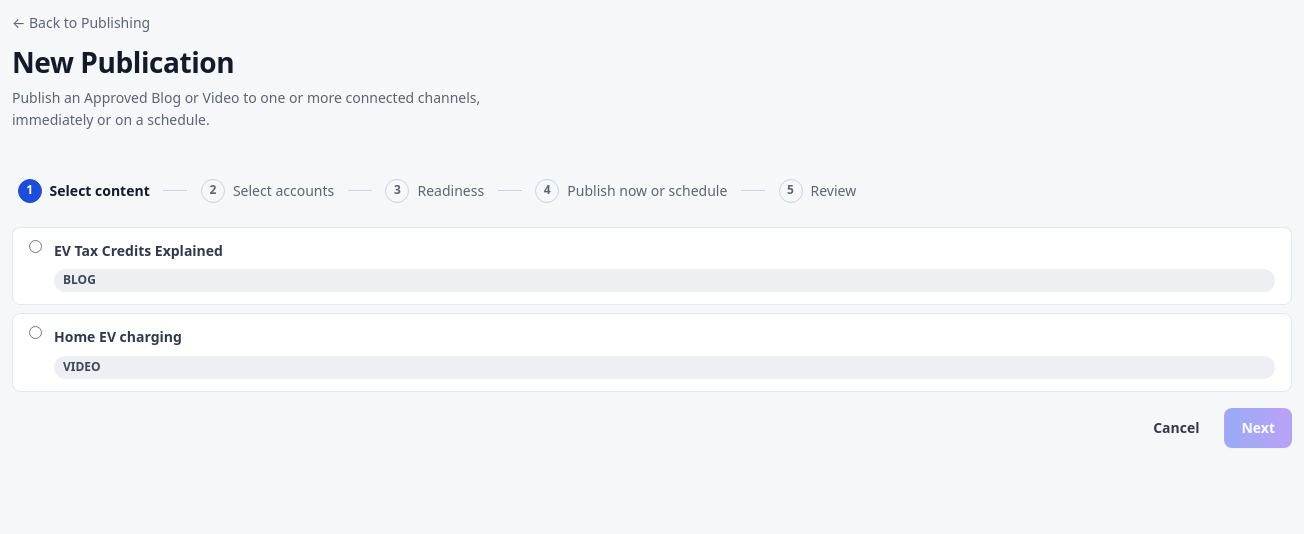
Test: PublishFlow › does not offer a WordPress-only account for Video content
Expected: the text "Home EV charging" is shown, [54,327,182,346]
Click the radio button labelled "Home EV charging VIDEO". click: x=36, y=333
box: [29,326,42,339]
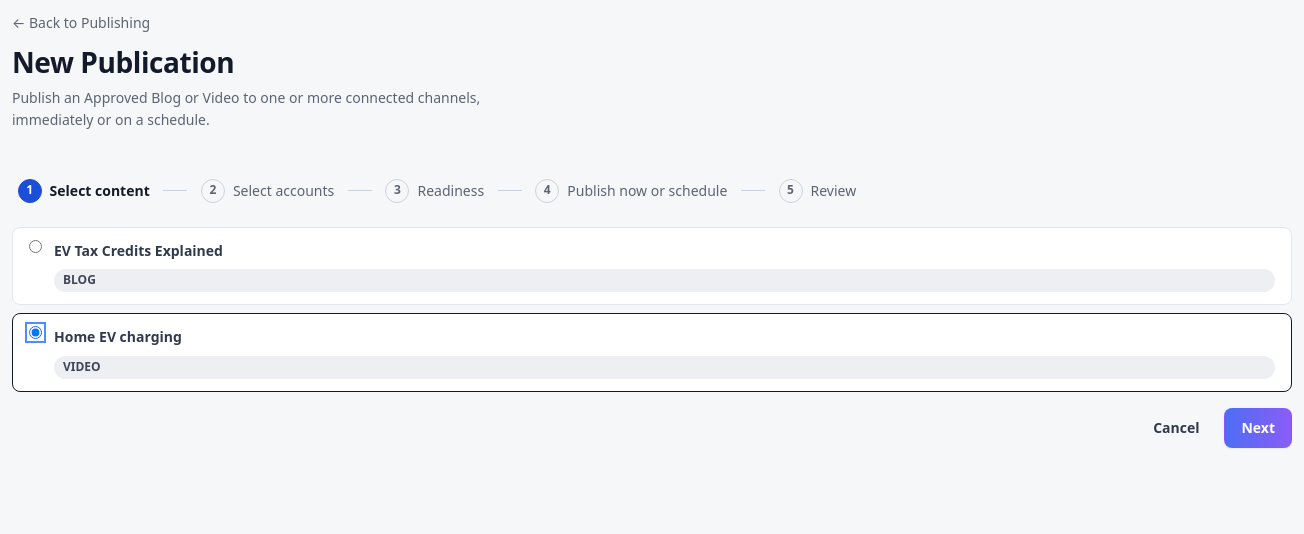
Click the button "Next". click: x=1258, y=428
box: [1224,408,1292,448]
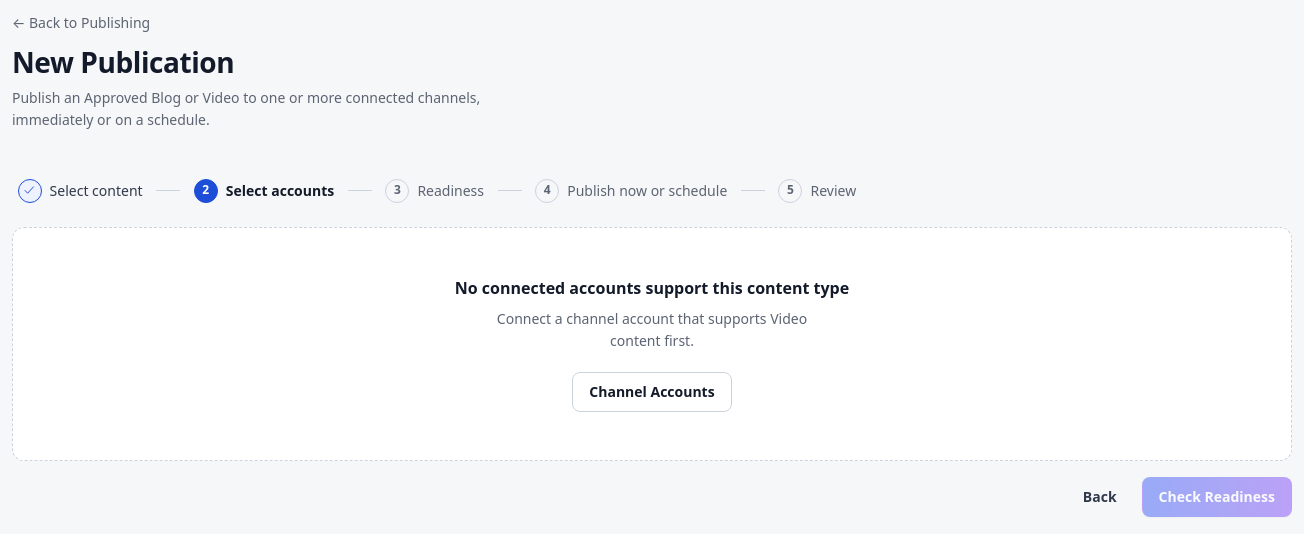
Expected: the text "No connected accounts support this content type" is shown, [455,276,849,300]
